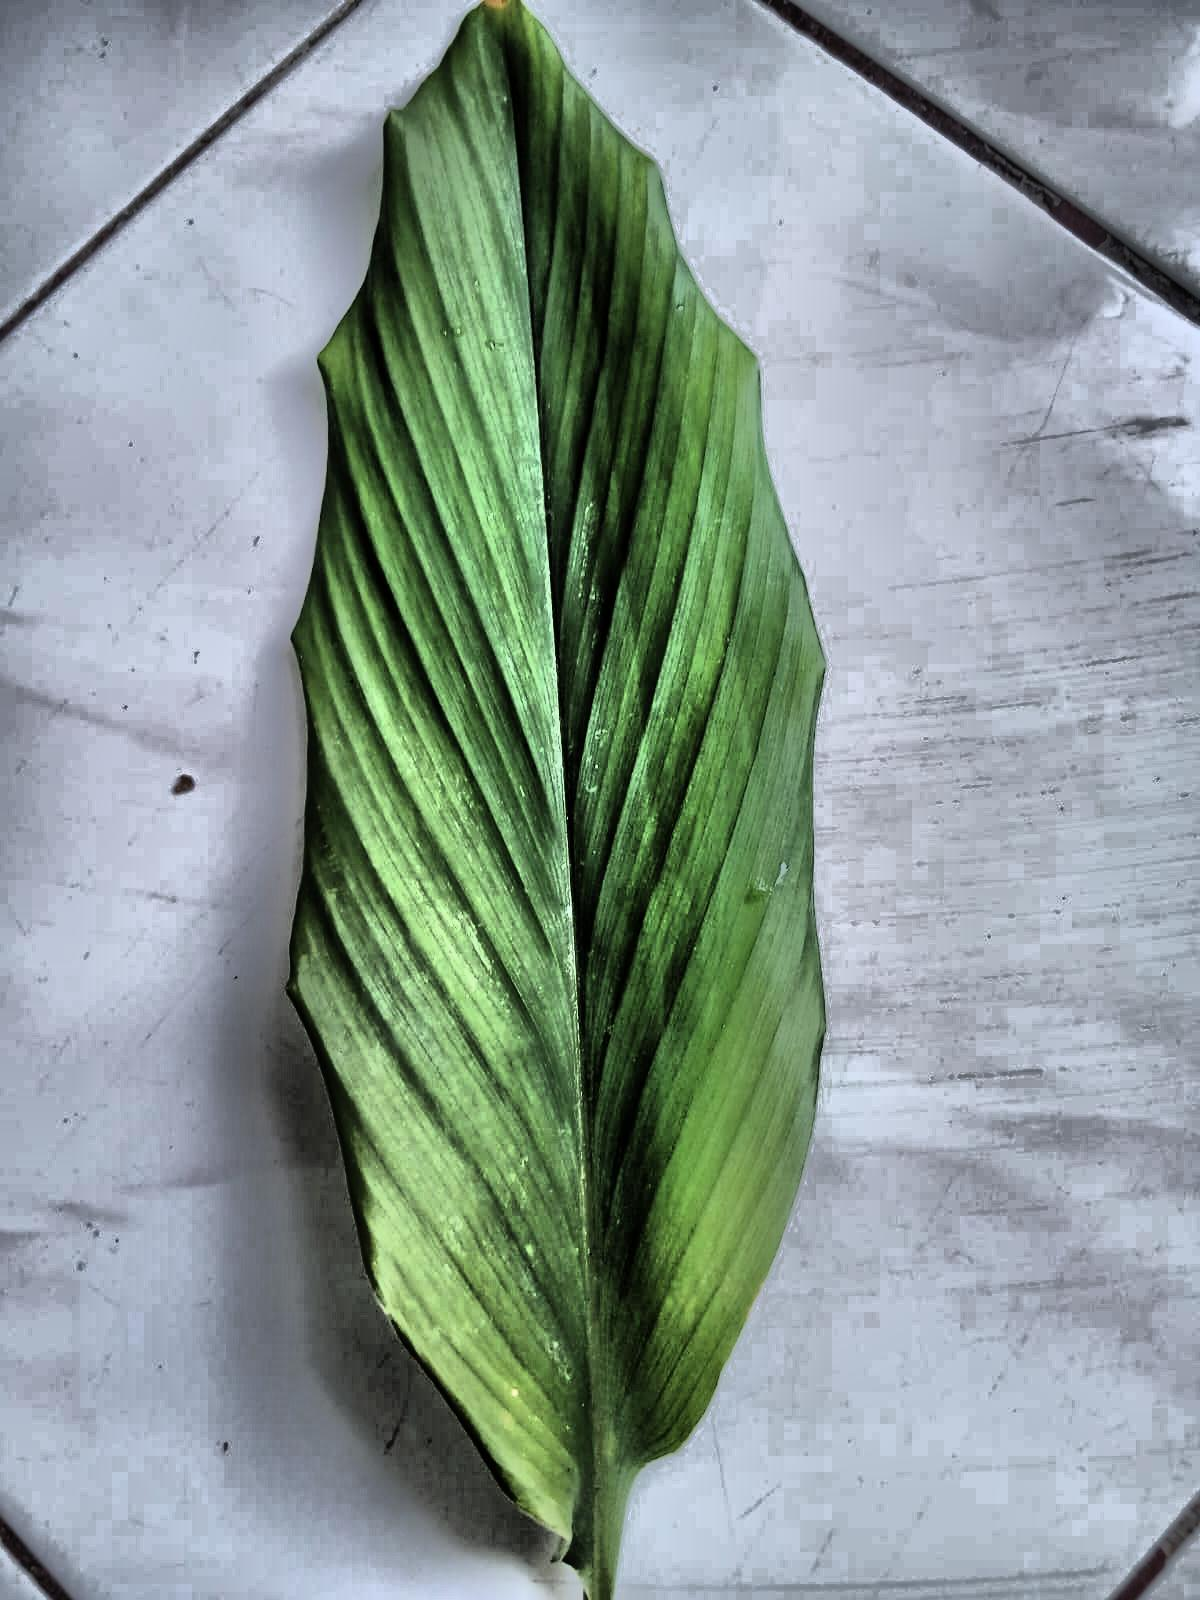daun kunyit: (287, 0, 824, 1599)
